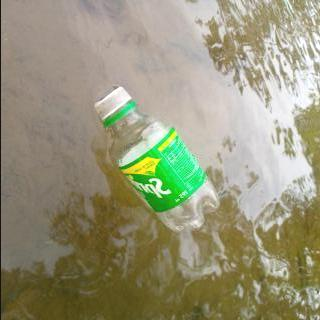bottle: (92, 86, 220, 234)
